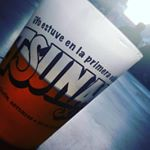cups: (3, 1, 145, 149)
